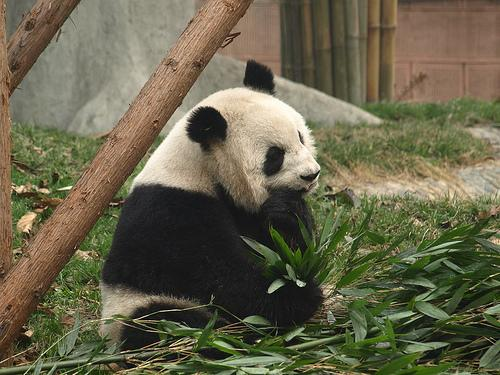panda: (102, 61, 321, 325)
